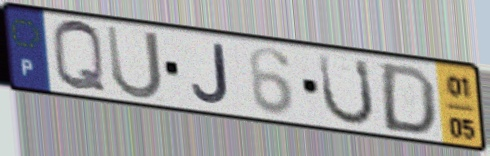6: (246, 45, 298, 119)
D: (380, 61, 439, 138)
J: (188, 41, 233, 107)
Q: (49, 18, 110, 97)
U: (103, 23, 166, 102), (316, 51, 378, 128)
